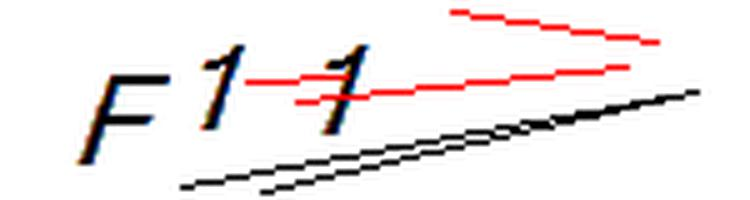1: (312, 33, 377, 143), (187, 37, 247, 140)
F: (70, 61, 178, 173)
